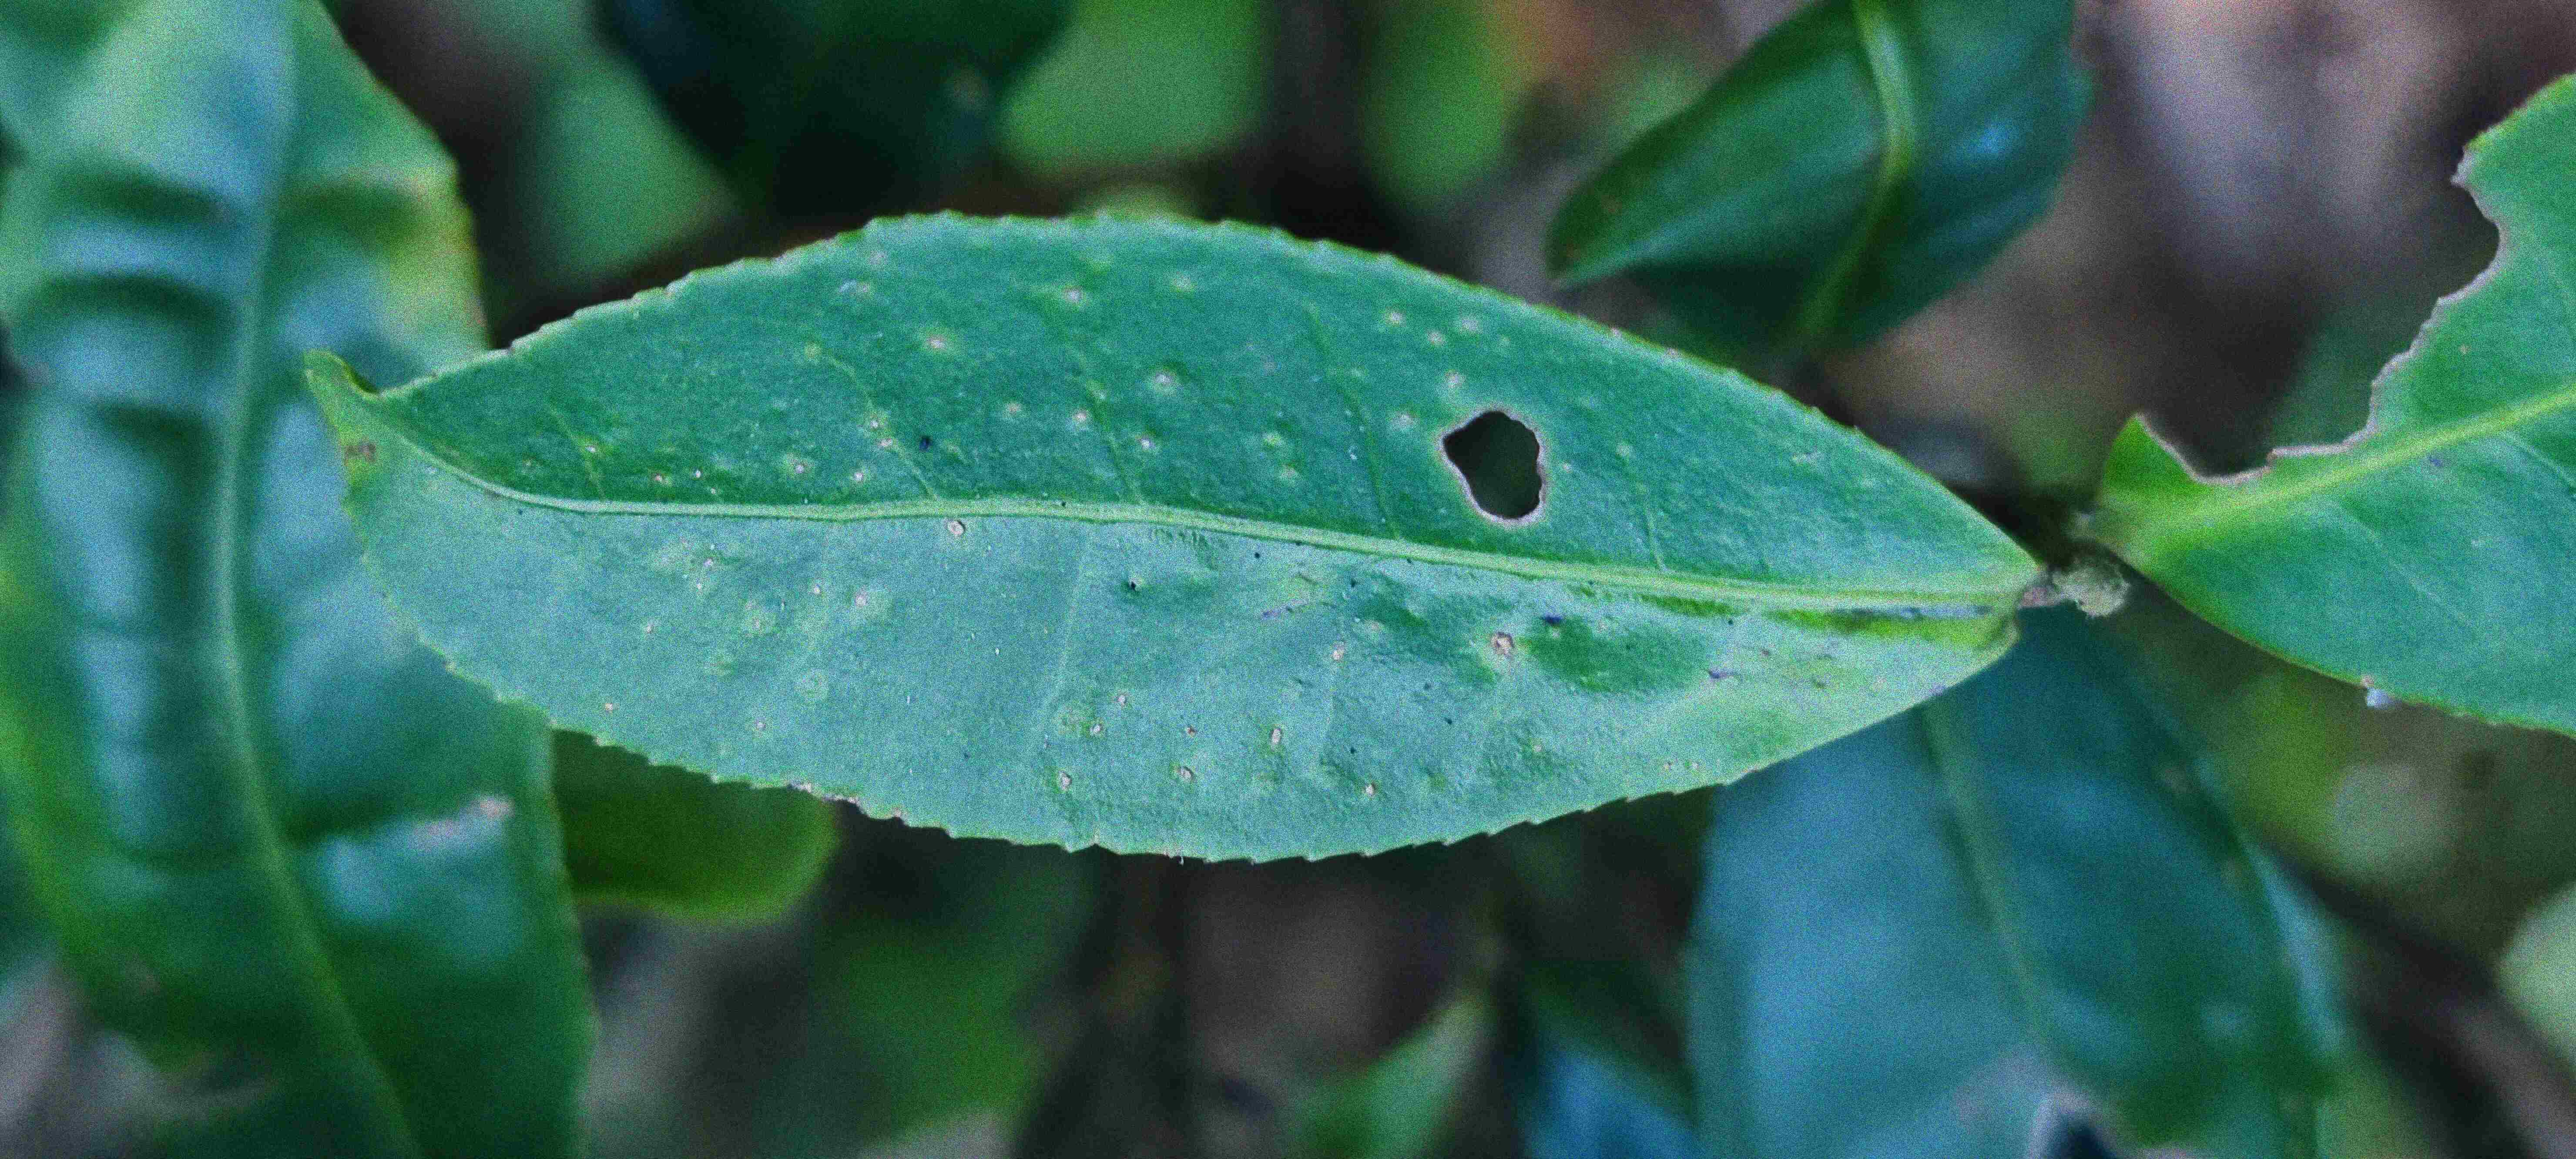chihuo_high: (2083, 74, 2576, 740)
chihuo_low: (299, 199, 2047, 868)
